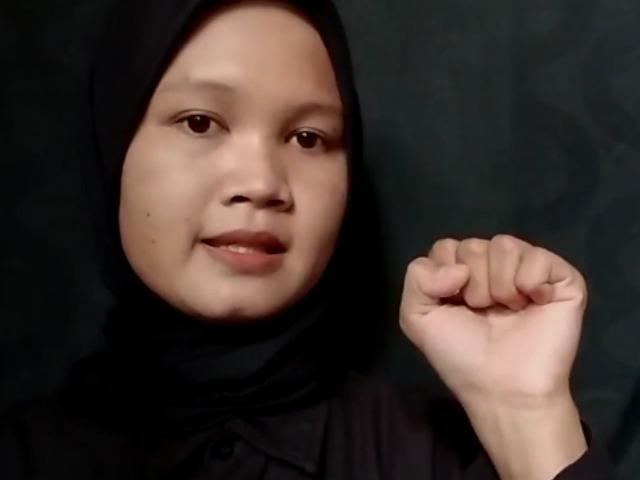S: (397, 234, 587, 392)
